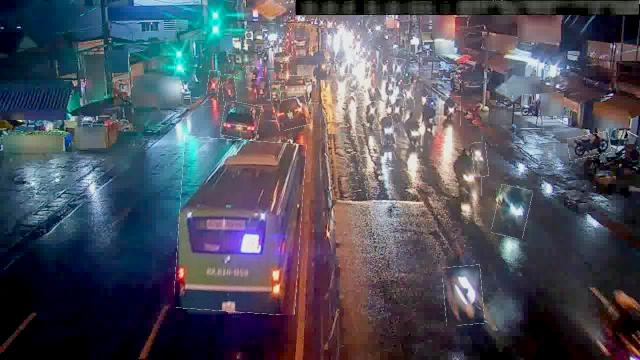Bike: (443, 265, 483, 325), (494, 186, 530, 238), (444, 152, 482, 196), (567, 134, 611, 158), (403, 116, 423, 156), (420, 98, 440, 134), (440, 96, 460, 126), (472, 142, 488, 178), (380, 116, 394, 146), (222, 74, 236, 102), (207, 70, 220, 100), (362, 100, 378, 124), (245, 67, 262, 89), (254, 78, 270, 100), (393, 58, 405, 80), (392, 98, 403, 122), (348, 75, 360, 97), (404, 84, 414, 109), (270, 82, 280, 104), (385, 75, 395, 95)
Bus: (176, 138, 304, 314)
Car: (220, 101, 260, 139), (274, 97, 310, 129), (284, 76, 316, 96)
